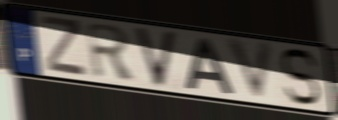A: (183, 35, 235, 96)
R: (84, 20, 139, 83)
S: (278, 46, 322, 107)
V: (223, 36, 276, 106), (131, 25, 180, 91)
Z: (40, 14, 89, 79)
